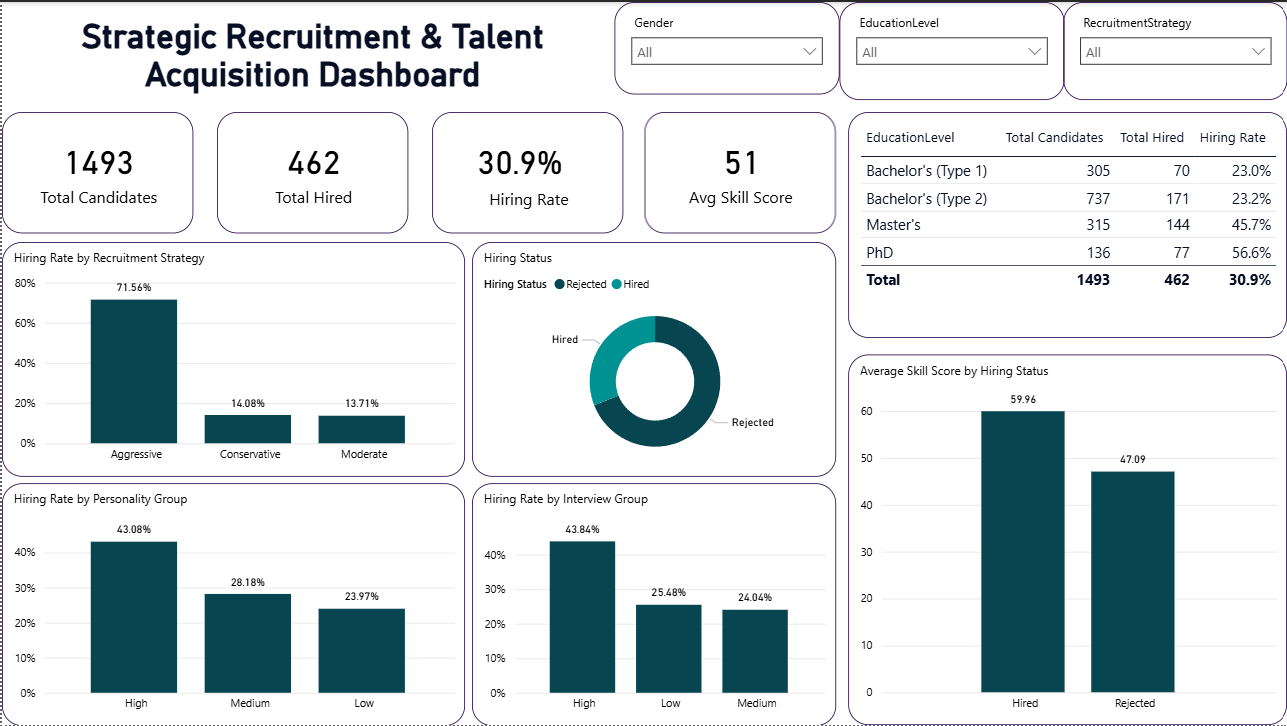

This screenshot's page, from the dashboard's own definition file:
{"tool":"powerbi","page":{"name":"Page 1","canvas":[1280,720],"ordinal":0},"visuals":[{"type":"advanceCardE03760C5AB684758B56AA29F9E6C257B","fields":{"mainMeasure":["cleaned version.Total Candidates"]},"box":[0,109.8,190.7,120.8],"z":0},{"type":"advanceCardE03760C5AB684758B56AA29F9E6C257B","fields":{"mainMeasure":["cleaned version.Total Hired"]},"box":[214.1,109.8,190.7,120.8],"z":1000},{"type":"advanceCardE03760C5AB684758B56AA29F9E6C257B","fields":{"mainMeasure":["cleaned version.Hiring Rate"]},"box":[428.1,109.8,190.7,120.8],"z":2000},{"type":"donutChart","title":"Hiring Status","fields":{"Y":["CountNonNull(cleaned version.HiringDecision)"],"Category":["cleaned version.Hiring Status"]},"box":[467.9,238.8,362.3,233.3],"z":3000},{"type":"clusteredColumnChart","title":"Hiring Rate by Recruitment Strategy","fields":{"Category":["cleaned version.RecruitmentStrategy"],"Y":["cleaned version.Hiring Rate %"]},"box":[0,238.8,461.1,233.3],"z":4000},{"type":"clusteredColumnChart","title":"Hiring Rate by Personality Group","fields":{"Y":["cleaned version.Hiring Rate %"],"Category":["cleaned version.PersonalityGroup"]},"box":[0,478.9,461.1,241.5],"z":4001},{"type":"clusteredColumnChart","title":"Average Skill Score by Hiring Status","fields":{"Category":["cleaned version.Hiring Status"],"Y":["Avg(cleaned version.SkillScore)"]},"box":[842.5,351.3,437.7,369.1],"z":4002},{"type":"slicer","fields":{"Values":["cleaned version.EducationLevel"]},"box":[832.9,0,223.7,97.4],"z":4003},{"type":"slicer","fields":{"Values":["cleaned version.RecruitmentStrategy"]},"box":[1056.6,0,223.7,97.4],"z":4004},{"type":"slicer","fields":{"Values":["cleaned version.Gender"]},"box":[609.3,0,223.7,91.9],"z":4005},{"type":"advanceCardE03760C5AB684758B56AA29F9E6C257B","fields":{"mainMeasure":["cleaned version.Avg Skill Score"]},"box":[639.5,109.8,190.7,120.8],"z":4006},{"type":"textbox","box":[22,9.6,573.6,87.8],"z":4007},{"type":"clusteredColumnChart","title":"Hiring Rate by Interview Group","fields":{"Y":["cleaned version.Hiring Rate %"],"Category":["cleaned version.InterviewGroup"]},"box":[467.9,478.9,362.3,241.5],"z":4008},{"type":"tableEx","title":"Average Interview Score by Hiring Status","fields":{"Values":["cleaned version.EducationLevel","cleaned version.Total Candidates","cleaned version.Total Hired","cleaned version.Hiring Rate"]},"box":[842.5,109.8,437.7,225],"z":4009}]}

Visuals, with their boxes in screenshot pixels (x1, y1, x2, y2), scaled from the page's 1280x720 canvas onto the 1287x726 screenshot:
advanceCardE03760C5AB684758B56AA29F9E6C257B - cleaned version.Total Candidates: (0, 111, 192, 233)
advanceCardE03760C5AB684758B56AA29F9E6C257B - cleaned version.Total Hired: (215, 111, 407, 233)
advanceCardE03760C5AB684758B56AA29F9E6C257B - cleaned version.Hiring Rate: (430, 111, 622, 233)
"Hiring Status" donutChart: (470, 241, 835, 476)
"Hiring Rate by Recruitment Strategy" clusteredColumnChart: (0, 241, 464, 476)
"Hiring Rate by Personality Group" clusteredColumnChart: (0, 483, 464, 725)
"Average Skill Score by Hiring Status" clusteredColumnChart: (847, 354, 1286, 725)
slicer - cleaned version.EducationLevel: (837, 0, 1062, 98)
slicer - cleaned version.RecruitmentStrategy: (1062, 0, 1286, 98)
slicer - cleaned version.Gender: (613, 0, 838, 93)
advanceCardE03760C5AB684758B56AA29F9E6C257B - cleaned version.Avg Skill Score: (643, 111, 835, 233)
textbox: (22, 10, 599, 98)
"Hiring Rate by Interview Group" clusteredColumnChart: (470, 483, 835, 725)
"Average Interview Score by Hiring Status" tableEx: (847, 111, 1286, 338)
